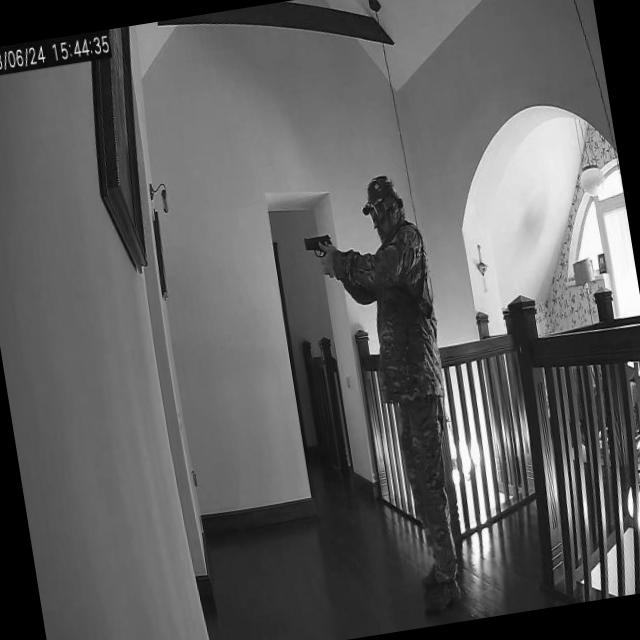gun: (302, 228, 336, 266)
person with a gun: (292, 168, 480, 622)
